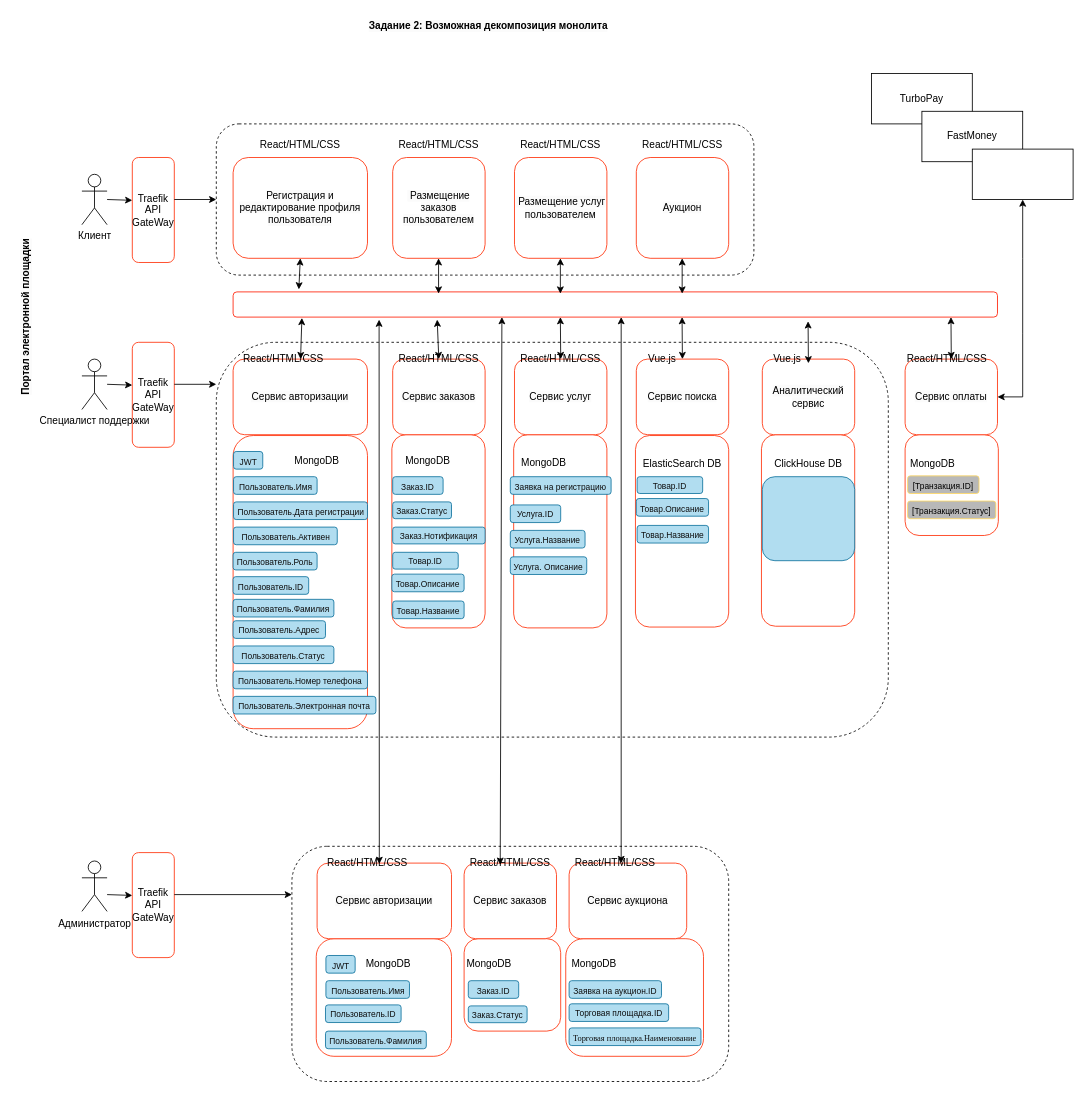
Image size: 1088x1096. Some labels were removed from this diagram. The centre of each missing label's shape, as x and y in pixels:
Схема может быть "динамической" в зависимости от потребностей аналитиков: (x=808, y=518)
Шина данных (Kafka | RabbitMQ | SAP PI): (x=615, y=304)
Яндекс.Pay: (x=1022, y=174)
